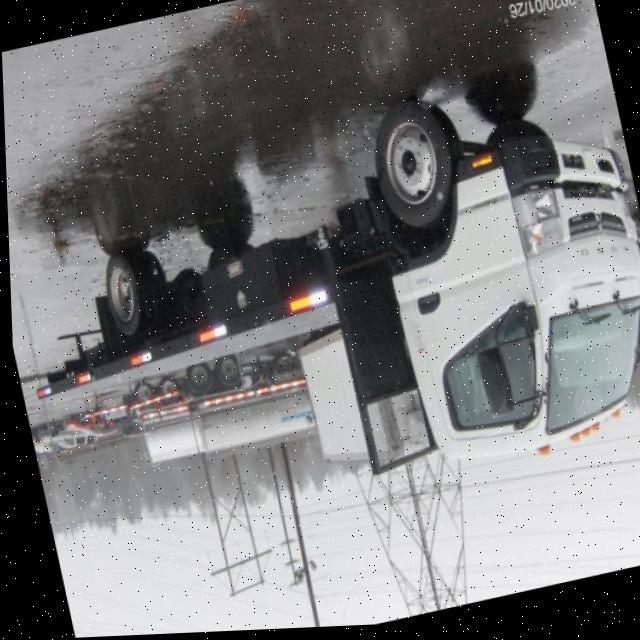truck: (2, 61, 640, 556)
